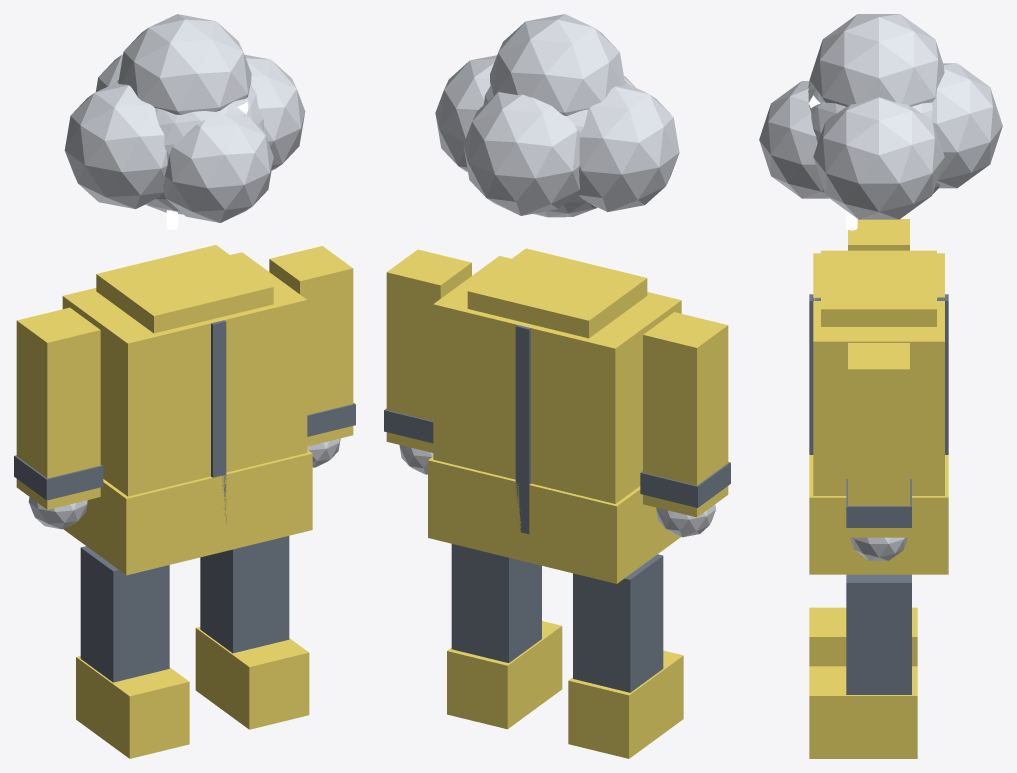
The model's file is cloud-person.glb.
3 views of the same model, side by side, from view 1: azimuth 30°, elevation 25°; view 2: azimuth 150°, elevation 25°; view 3: azimuth 270°, elevation 25° (orthographic).
Visible parts, largest first — view 1: RainSlicker, SlickerSkirt, Sleeve_L, CloudTop, SlickerCollar, Pants_L, CloudLeft, CloudFront, Sleeve_R, Pants_R, RainBoot_R, RainBoot_L (+7 smaller); view 2: RainSlicker, SlickerSkirt, Sleeve_L, CloudBack, SlickerCollar, Pants_L, CloudLeft, CloudTop, Sleeve_R, Pants_R, RainBoot_L, RainBoot_R (+7 smaller); view 3: RainSlicker, CloudRight, Sleeve_R, CloudTop, SlickerCollar, RainBoot_R, Pants_R, SlickerSkirt, CloudBack, CloudFront, RainBoot_L, Sleeve_L (+4 smaller).
Boxes of the visible parts, x1,y1,x2,y2 form: RainSlicker: (62, 252, 307, 496); SlickerSkirt: (63, 450, 312, 575); Sleeve_L: (16, 307, 100, 509); CloudTop: (118, 14, 251, 114); SlickerCollar: (96, 245, 273, 333); Pants_L: (80, 546, 169, 682); CloudLeft: (64, 81, 167, 208); CloudFront: (163, 113, 273, 222); Sleeve_R: (269, 246, 353, 446); Pants_R: (200, 536, 289, 653); RainBoot_R: (195, 627, 309, 729); RainBoot_L: (76, 656, 189, 758); RainSlicker: (433, 256, 681, 503); SlickerSkirt: (428, 456, 680, 583); Sleeve_L: (643, 312, 728, 517); CloudBack: (463, 92, 580, 215); SlickerCollar: (467, 248, 647, 338); Pants_L: (573, 554, 663, 692); CloudLeft: (578, 83, 679, 211); CloudTop: (490, 14, 625, 116); Sleeve_R: (386, 249, 471, 452); Pants_R: (451, 544, 541, 662); RainBoot_L: (568, 650, 683, 758); RainBoot_R: (447, 621, 562, 729); RainSlicker: (813, 253, 944, 495); CloudRight: (813, 97, 944, 219); Sleeve_R: (848, 343, 909, 537); CloudTop: (809, 14, 944, 106); SlickerCollar: (821, 250, 936, 326); RainBoot_R: (809, 666, 917, 758); Pants_R: (846, 574, 911, 694); SlickerSkirt: (809, 455, 948, 574); CloudBack: (931, 63, 1002, 188); CloudFront: (759, 81, 829, 198); RainBoot_L: (809, 607, 917, 666); Sleeve_L: (848, 219, 909, 250).
Bounding box in the file's own units: 0.93 × 1.99 × 0.63.
